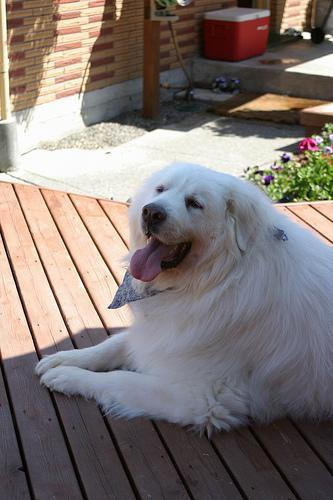Great_Pyrenees: (35, 163, 331, 435)
